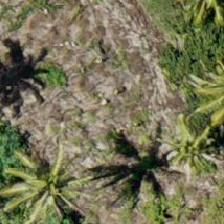Kelapa_Sawit: (4, 144, 95, 223), (149, 105, 223, 196)
